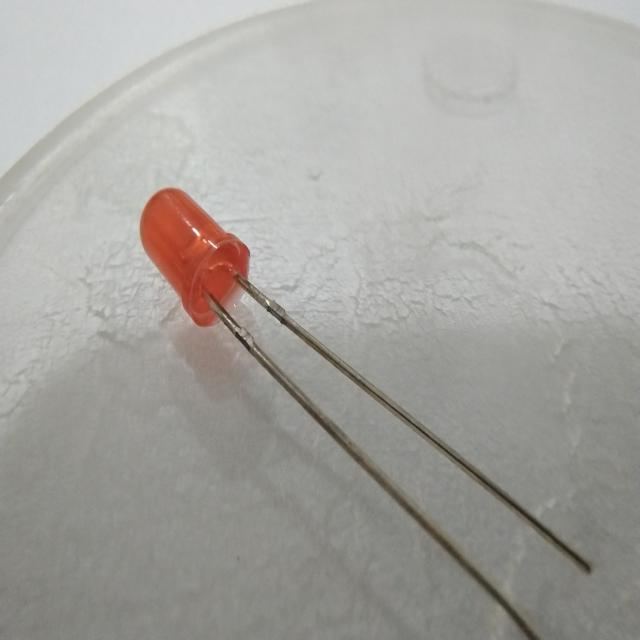red_led: (131, 177, 258, 338)
